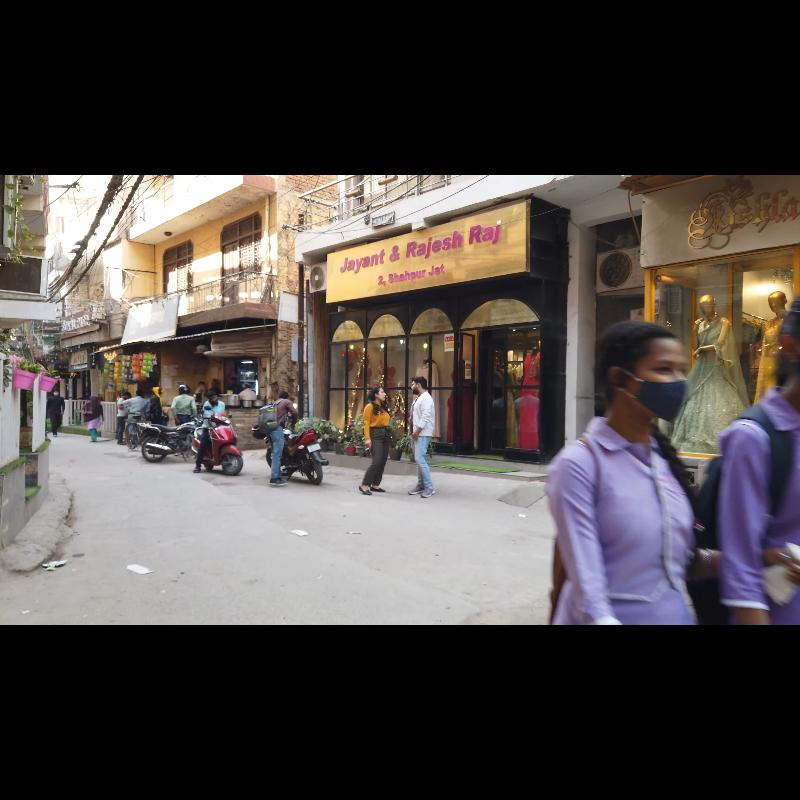Jeans: (412, 436, 433, 490)
Pant: (360, 424, 388, 488)
shirt: (551, 417, 698, 625), (361, 403, 391, 444), (409, 392, 436, 436)
